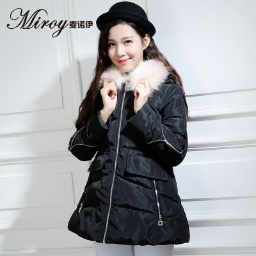face: (91, 18, 164, 80)
